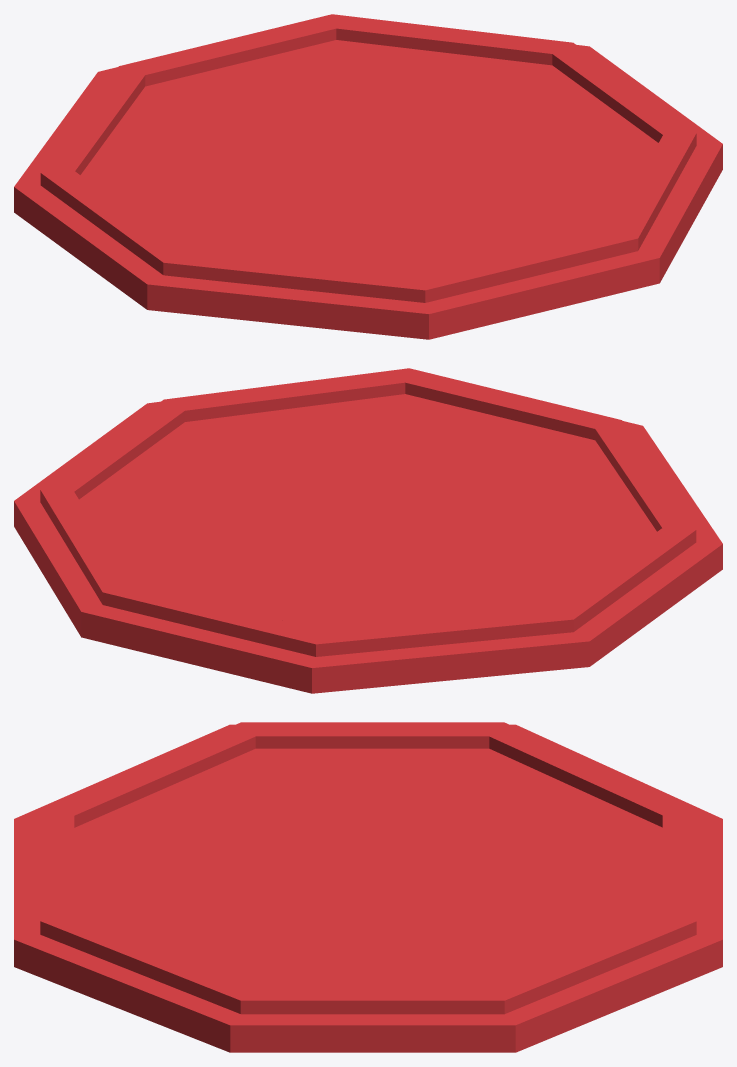
File: base_tile.fbx
3 renders of one model, top to bottom at view 1: azimuth 30°, elevation 25°; view 2: azimuth 150°, elevation 25°; view 3: azimuth 270°, elevation 25°, orthographic. The views are drawn at different scales.
Parts seen in each view (by area): view 1: octogono; view 2: octogono; view 3: octogono.
Boxes of the visible parts, x1,y1,x2,y2 form: octogono: [14, 14, 722, 339]; octogono: [14, 368, 722, 693]; octogono: [14, 722, 722, 1052].
Bounding box in the file's own units: 317 × 20.14 × 316.
